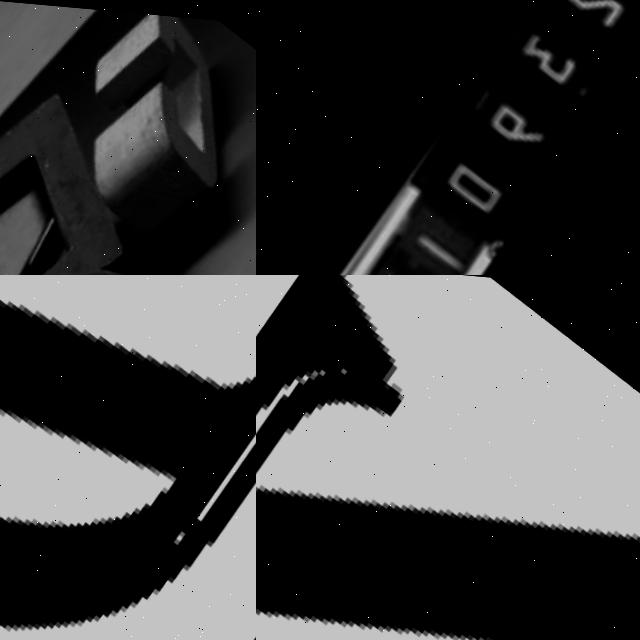0: (431, 145, 503, 214)
1: (398, 214, 469, 275)
2: (553, 0, 634, 28)
3: (508, 13, 583, 84)
9: (474, 82, 551, 155)
C: (34, 0, 256, 236)
D: (0, 275, 256, 640), (0, 62, 171, 275)
G: (0, 205, 256, 275)
Z: (256, 275, 640, 640)
